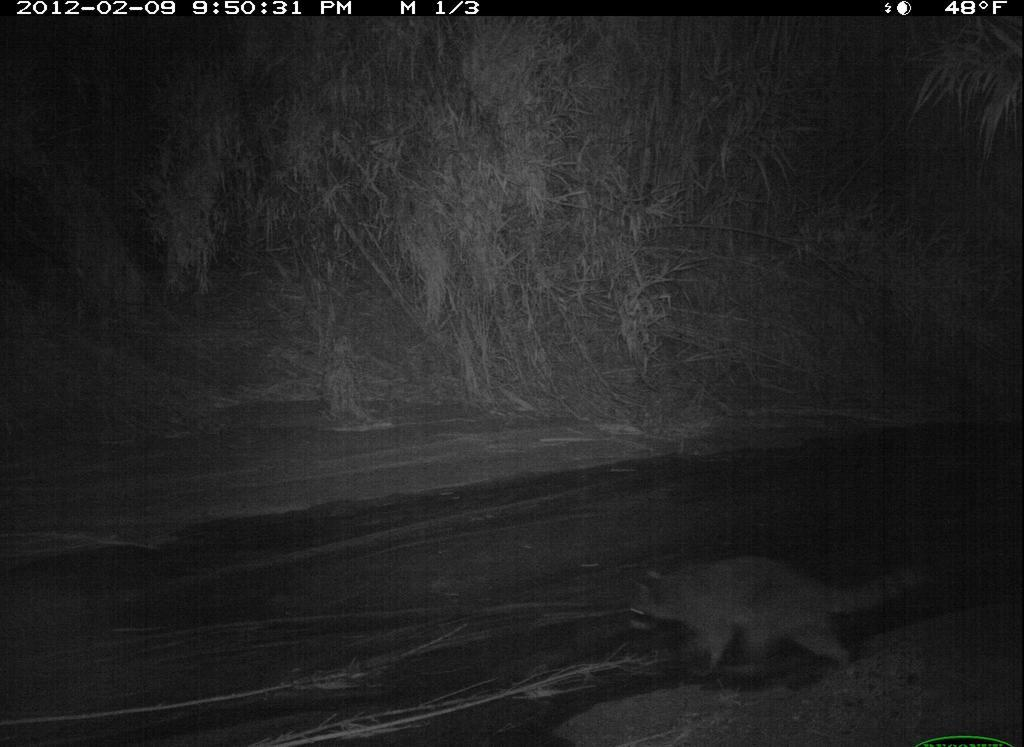raccoon: (592, 543, 932, 673)
